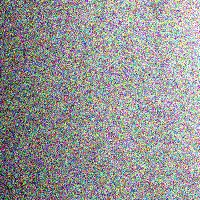pitted_surface: (0, 2, 123, 200)
